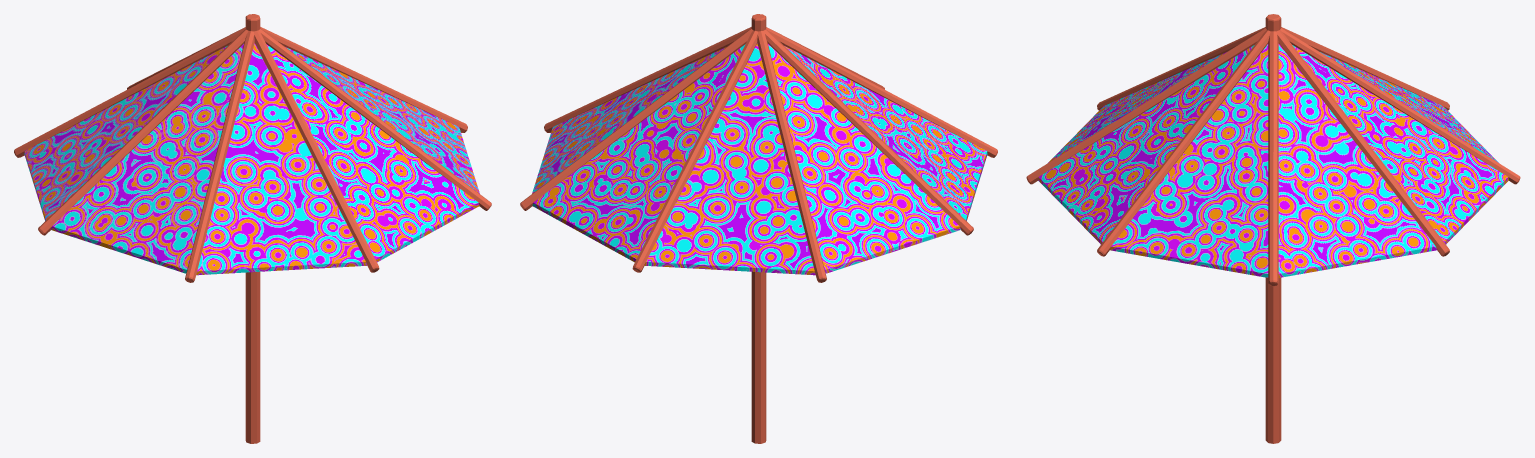
Rendered from Parasol.fbx.
The picture shows the model from 3 angles, left to right: view 1: azimuth 30°, elevation 25°; view 2: azimuth 150°, elevation 25°; view 3: azimuth 270°, elevation 25°; orthographic projection.
Visible parts, largest first — view 1: Cylinder.007; view 2: Cylinder.007; view 3: Cylinder.007.
Boxes of the visible parts, x1,y1,x2,y2 form: Cylinder.007: [14, 14, 491, 443]; Cylinder.007: [520, 14, 997, 443]; Cylinder.007: [1026, 14, 1520, 443].
Bounding box in the file's own units: 375 × 356 × 375.
Materials: 1 (1 with a texture image).
